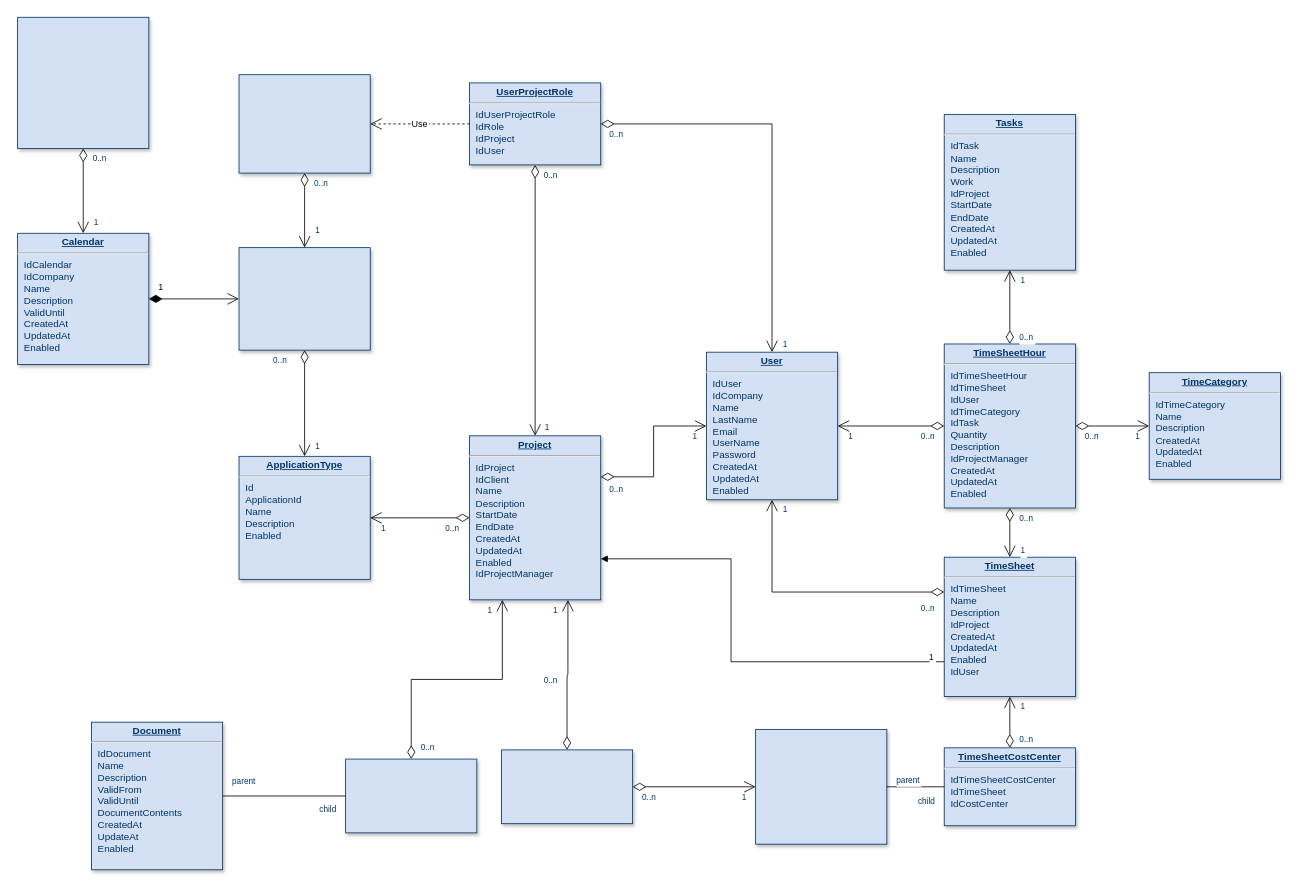
Some shapes in this 1300 by 891 pixel diagram are drawn without their labels. The centre of each missing label's shape, as x and y in pixels:
Application id RoleId TypeId Name Description Enabled: point 305,300
CostCenter IdCostCenter Name Description CreatedAt UpdatedAt Enabled: point 822,787
Holiday IdHoliday IdCalendar Name Description Date CreatedAt UpdatedAt Enabled: point 84,83
ProjectCostCenter IdProjectCostCenter IdProject IdCostCenter: point 567,787
ProjectDocument IdProjectDocument IdProject IdDocument: point 412,797
Role Id ApplicationId Name Enabled: point 305,125
